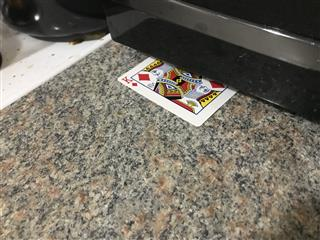KingOfDiamonds: (116, 55, 238, 126)
